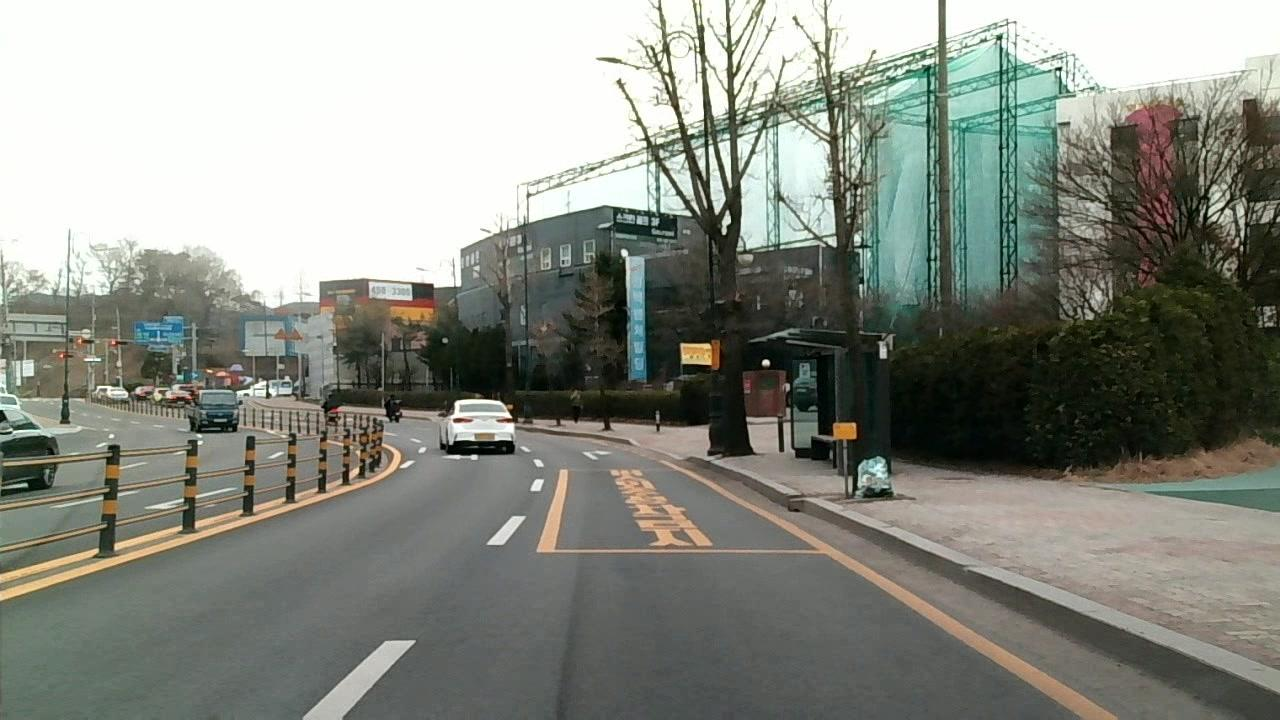trash: (850, 451, 896, 505)
